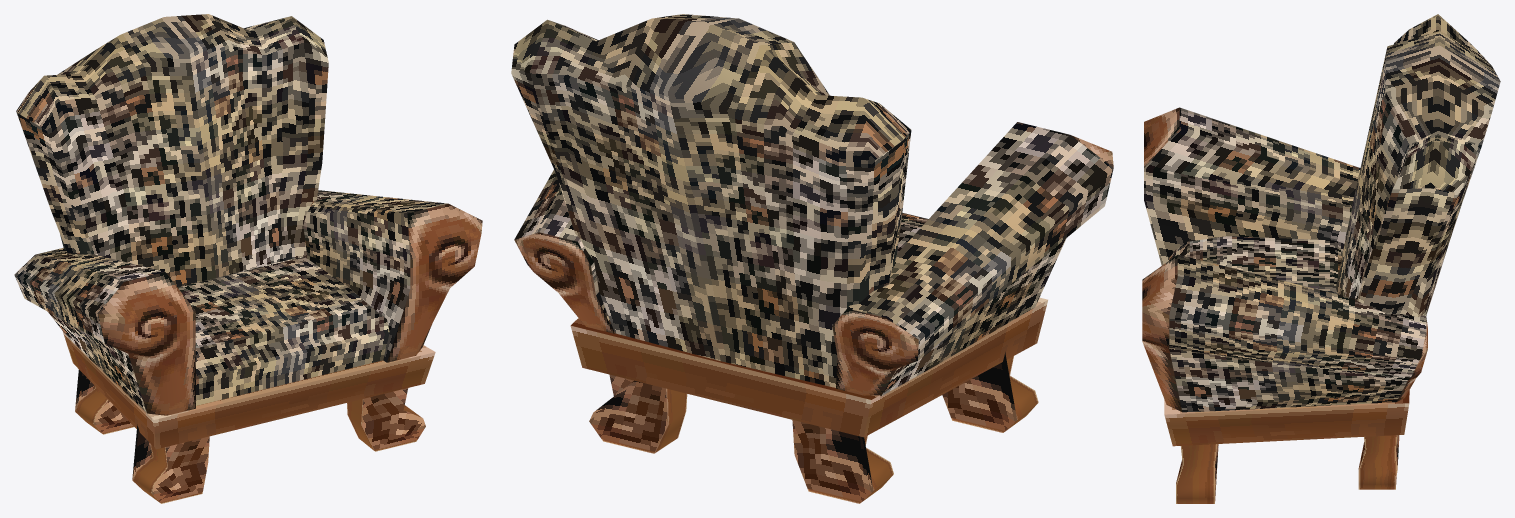
The model's file is o_isu-2.glb.
3 views of the same model, side by side, from view 1: azimuth 30°, elevation 25°; view 2: azimuth 150°, elevation 25°; view 3: azimuth 270°, elevation 25° (orthographic). The views are drawn at different scales.
Visible parts, largest first — view 1: o_isu; view 2: o_isu; view 3: o_isu.
Boxes of the visible parts, bbox=[...] form: o_isu: bbox=[14, 14, 482, 503]; o_isu: bbox=[511, 14, 1113, 503]; o_isu: bbox=[1142, 14, 1500, 503].
Size of the model in its own units: 280 by 255 by 212.
Materials: 4 (4 with a texture image).
